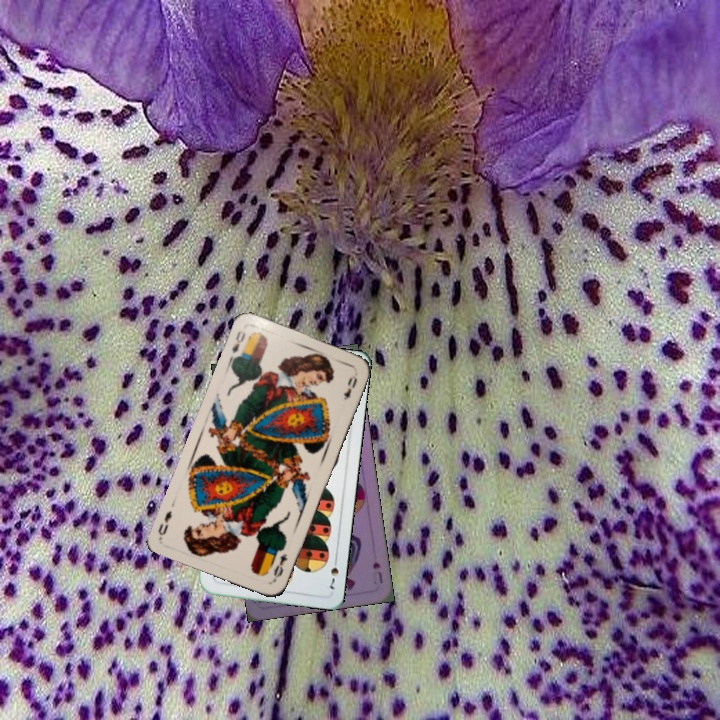EO: (225, 326, 248, 364), (269, 550, 290, 584)
S7: (325, 553, 342, 593)
SU: (368, 558, 385, 586)
